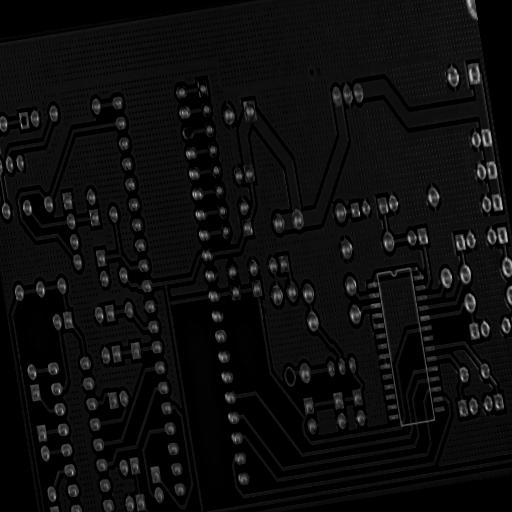missing_hole: (282, 363, 297, 388), (181, 124, 195, 142), (18, 112, 28, 128)
